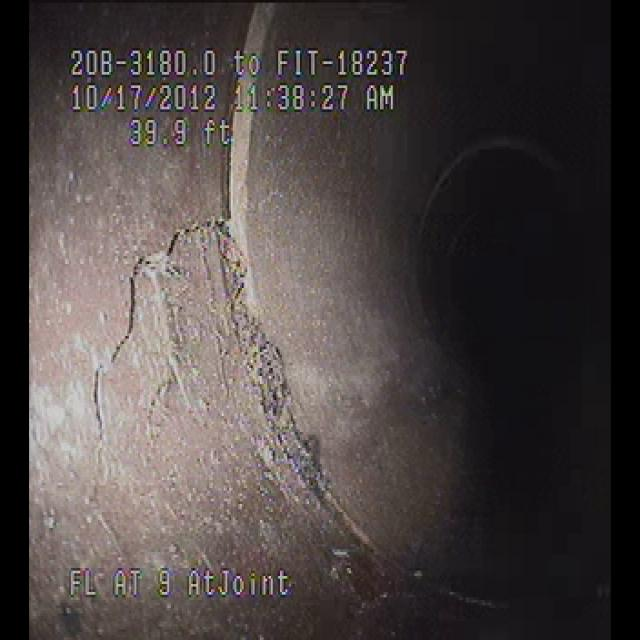Fracture: (79, 199, 312, 486)
